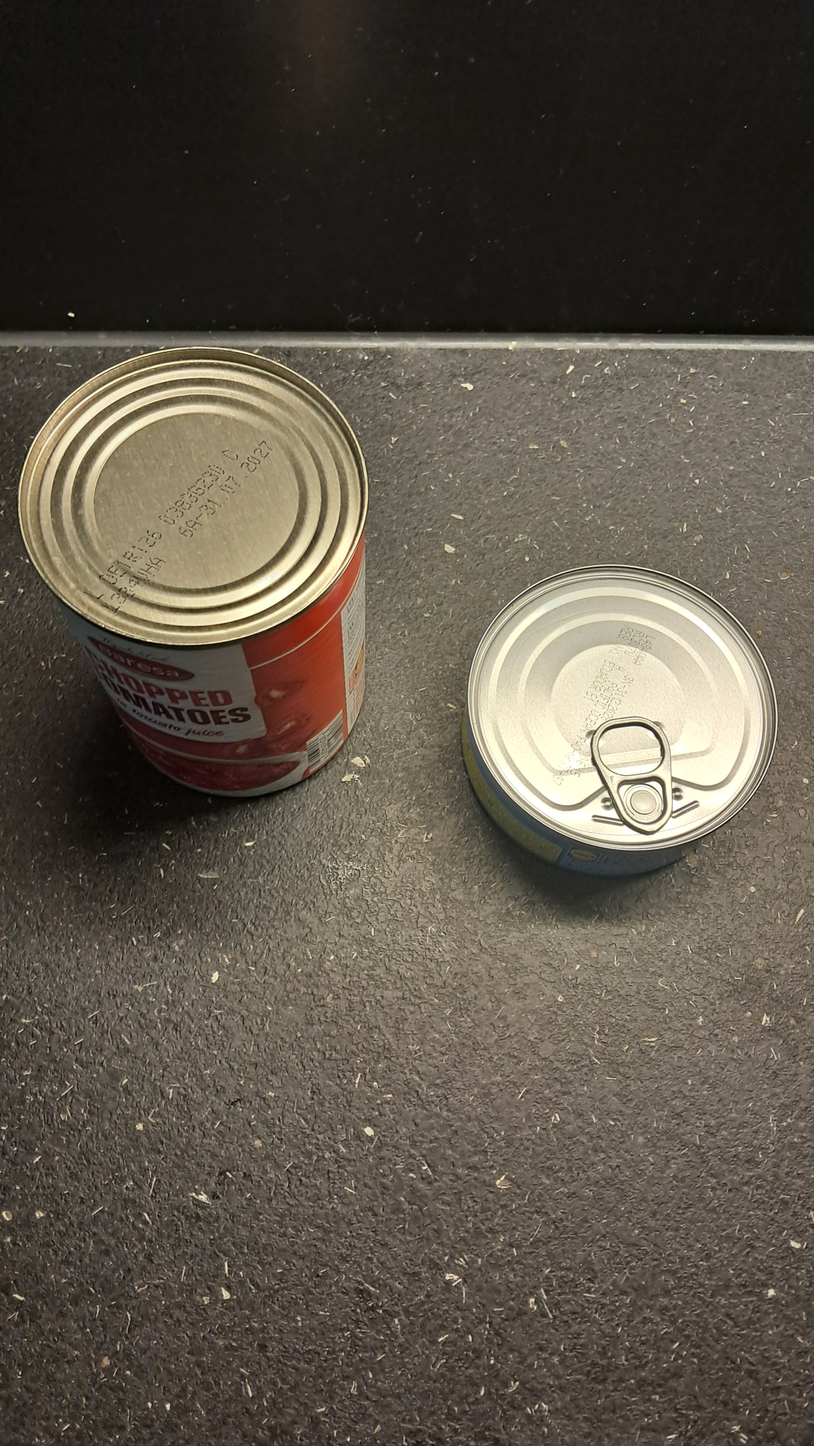Konservburk: (14, 337, 377, 806), (462, 562, 782, 881)
